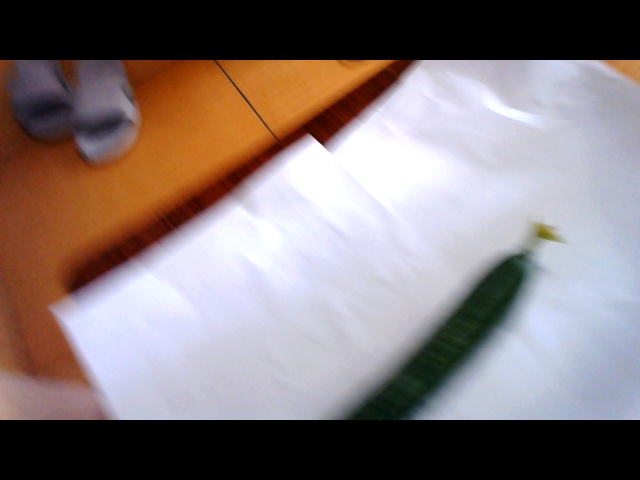cucumber: (318, 235, 550, 418)
